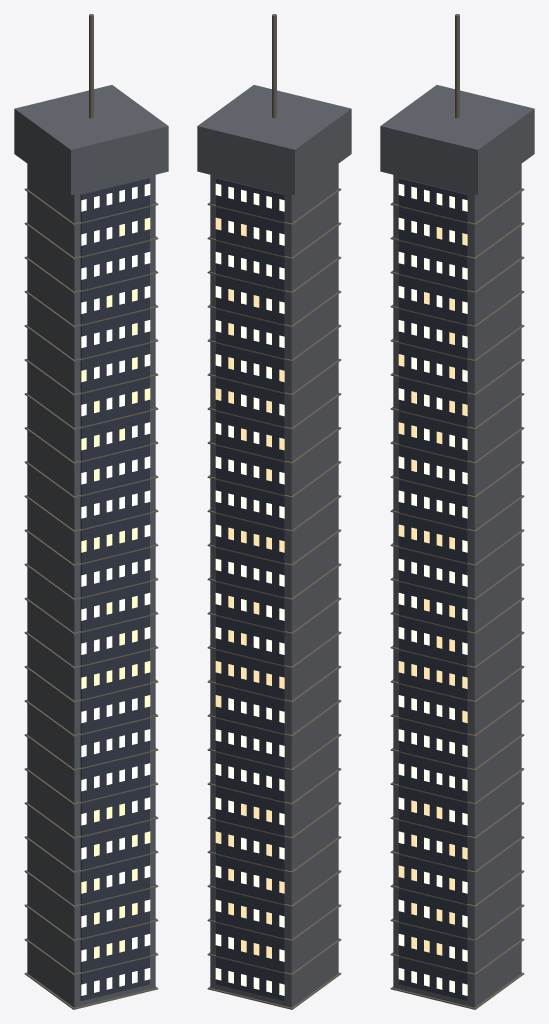
Rendered from tower.glb.
The picture shows the model from 3 angles, left to right: view 1: azimuth 30°, elevation 25°; view 2: azimuth 150°, elevation 25°; view 3: azimuth 330°, elevation 25°; orthographic projection.
Visible parts, largest first — view 1: CurtainBack, TowerShaft, Crown, Spire, Slab0; view 2: CurtainFront, TowerShaft, Crown, Spire, Slab0; view 3: CurtainBack, TowerShaft, Crown, Spire, Slab0.
Boxes of the visible parts, x1,y1,x2,y2 form: CurtainBack: (80,178,149,1000); TowerShaft: (27,164,155,1007); Crown: (14,85,168,195); Spire: (89,14,93,118); Slab0: (24,972,158,1009); CurtainFront: (216,178,285,1000); TowerShaft: (210,164,338,1007); Crown: (197,85,351,195); Spire: (272,14,276,118); Slab0: (207,972,341,1009); CurtainBack: (399,178,468,1000); TowerShaft: (393,164,521,1007); Crown: (380,85,534,195); Spire: (455,14,459,118); Slab0: (390,972,524,1009).
Bounding box in the file's own units: 3.6 × 34.02 × 3.6.
